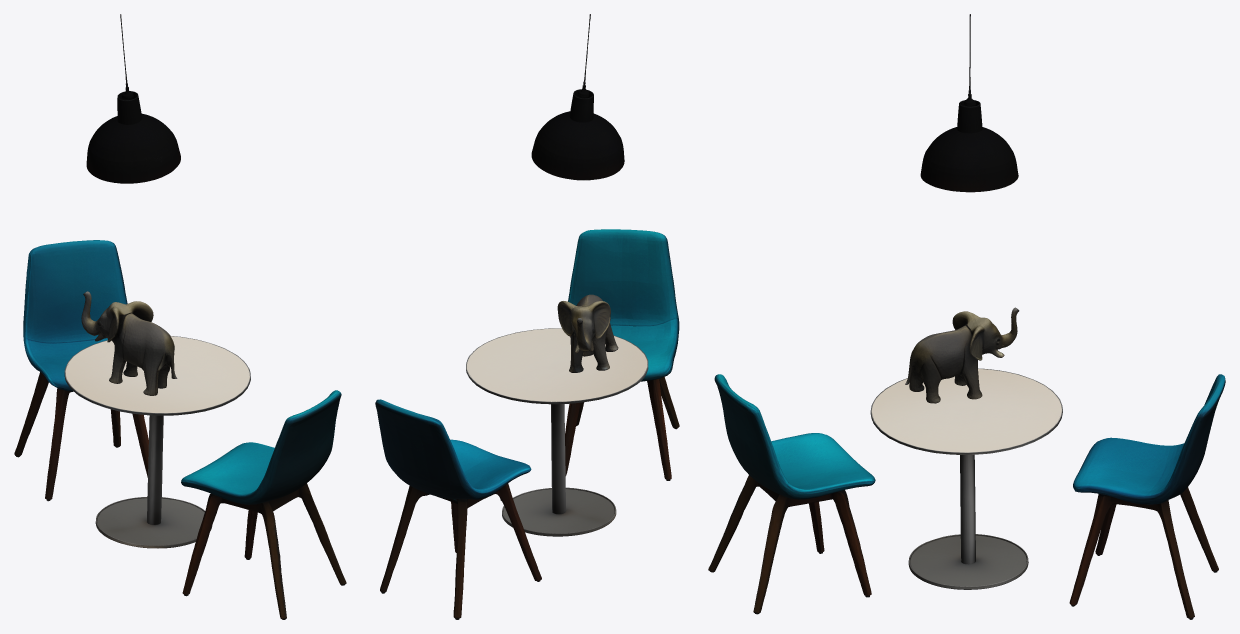
3 views of the same model, side by side, from view 1: azimuth 30°, elevation 25°; view 2: azimuth 150°, elevation 25°; view 3: azimuth 270°, elevation 25° (orthographic). The views are drawn at different scales.
Parts seen in each view (by area): view 1: mesh_4; view 2: mesh_4; view 3: mesh_4.
Part boxes in pixels (x1,y1,x2,y2): mesh_4: [14, 14, 346, 619]; mesh_4: [375, 14, 679, 619]; mesh_4: [708, 14, 1225, 619].
Size of the model in its own units: 1.77 by 5.45 by 4.61.
Materials: 5 (5 with a texture image).
